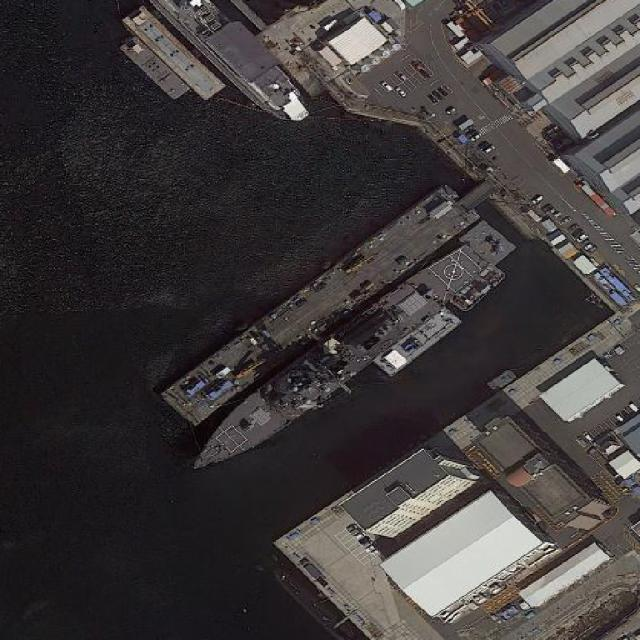Destroyer: (175, 238, 495, 486)
